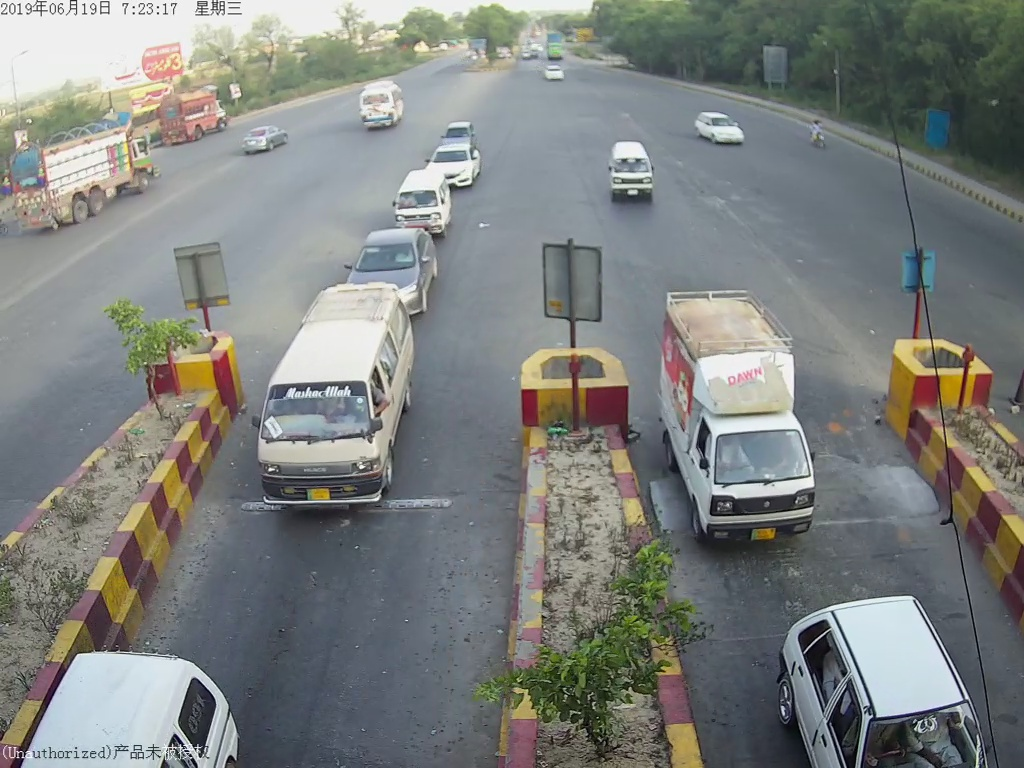Cat-1: (653, 274, 843, 569), (788, 586, 971, 762), (603, 138, 665, 216), (348, 226, 438, 279), (388, 174, 448, 216)
Cat-2: (253, 291, 426, 521)
